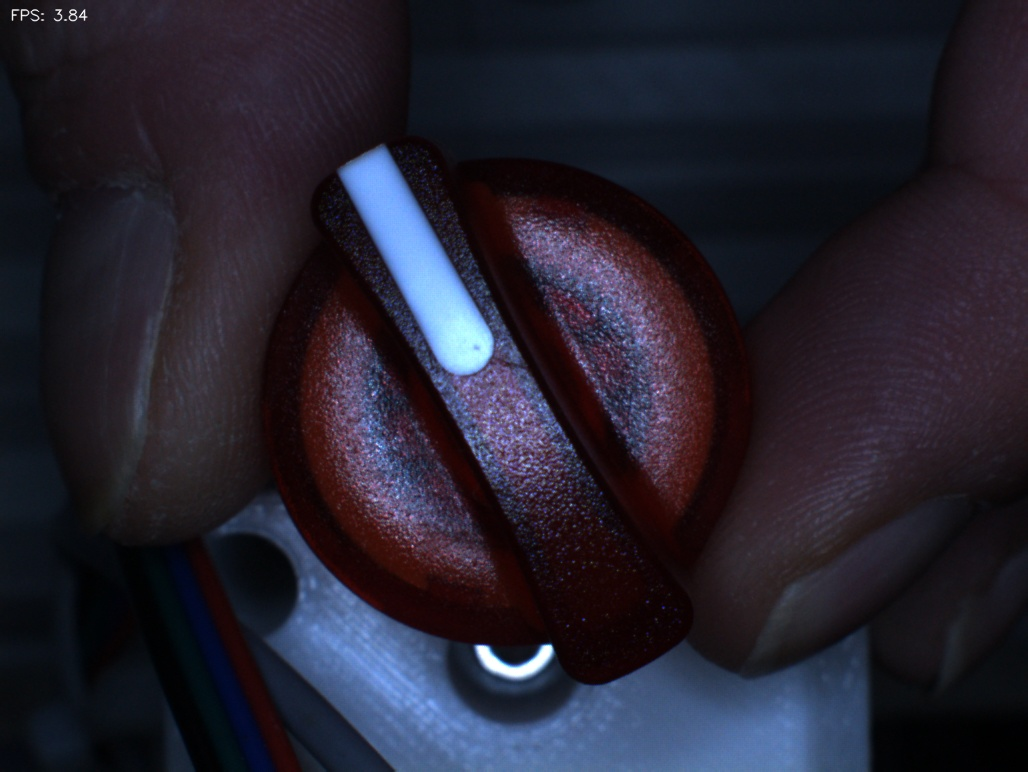PointNoir: (438, 310, 524, 395)
